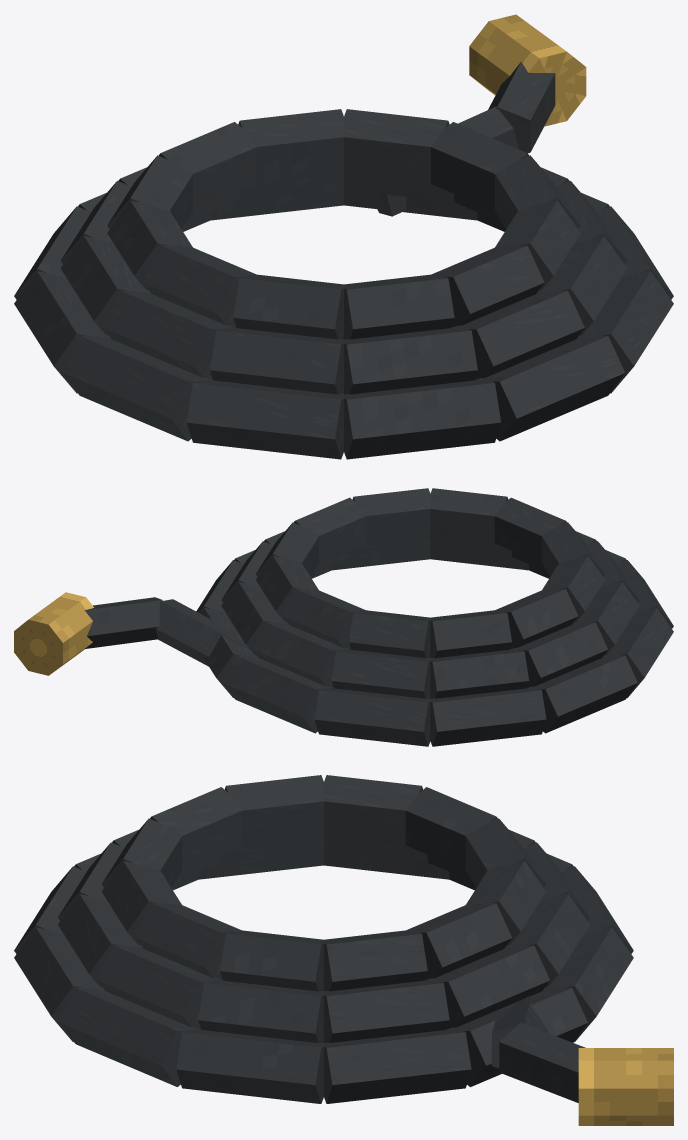
Rendered from hose.glb.
3 renders of one model, top to bottom at view 1: azimuth 30°, elevation 25°; view 2: azimuth 150°, elevation 25°; view 3: azimuth 270°, elevation 25°, orthographic. The views are drawn at different scales.
Parts seen in each view (by area): view 1: block_coil 03, block_coil 04, block_coil 02, block_coil 05, block_coil 13, block_coil 14, block_brass coupling, block_coil 12, block_coil 15, block_coil 29, block_coil 210, block_coil 23 (+23 smaller); view 2: block_coil 08, block_coil 07, block_coil 09, block_coil 06, block_brass coupling, block_coil 18, block_coil 17, block_coil 19, block_coil 16, block_coil 21, block_coil 22, block_coil 27 (+23 smaller); view 3: block_coil 00, block_coil 011, block_brass coupling, block_coil 01, block_coil 10, block_coil 111, block_coil 11, block_coil 110, block_coil 25, block_coil 26, block_coil 20, block_coil 211 (+25 smaller).
Boxes of the visible parts, <box> form: block_coil 03: <box>344,379,500,459</box>; block_coil 04: <box>187,379,343,459</box>; block_coil 02: <box>478,335,624,441</box>; block_coil 05: <box>63,335,209,441</box>; block_coil 13: <box>344,327,477,394</box>; block_coil 14: <box>210,327,343,394</box>; block_brass coupling: <box>469,14,586,126</box>; block_coil 12: <box>455,290,584,379</box>; block_coil 15: <box>103,290,232,379</box>; block_coil 29: <box>238,109,343,183</box>; block_coil 210: <box>344,109,449,183</box>; block_coil 23: <box>344,274,454,339</box>; block_coil 08: <box>314,687,430,746</box>; block_coil 07: <box>430,687,546,746</box>; block_coil 09: <box>223,655,331,733</box>; block_coil 06: <box>529,655,637,733</box>; block_brass coupling: <box>14,592,94,675</box>; block_coil 18: <box>331,649,430,698</box>; block_coil 17: <box>430,649,529,698</box>; block_coil 19: <box>252,622,348,687</box>; block_coil 16: <box>512,622,607,687</box>; block_coil 21: <box>352,488,430,543</box>; block_coil 22: <box>430,488,508,543</box>; block_coil 27: <box>430,610,511,658</box>; block_coil 00: <box>176,1029,323,1103</box>; block_coil 011: <box>324,1029,471,1103</box>; block_brass coupling: <box>578,1048,673,1125</box>; block_coil 01: <box>60,988,197,1086</box>; block_coil 10: <box>198,979,323,1042</box>; block_coil 111: <box>324,979,449,1042</box>; block_coil 11: <box>97,945,219,1028</box>; block_coil 110: <box>428,945,549,1028</box>; block_coil 25: <box>224,775,323,845</box>; block_coil 26: <box>324,775,422,845</box>; block_coil 20: <box>220,930,323,991</box>; block_coil 211: <box>324,930,427,991</box>.
Size of the model in its own units: 0.24 by 0.0451 by 0.22.
1 material, 1 textured.
